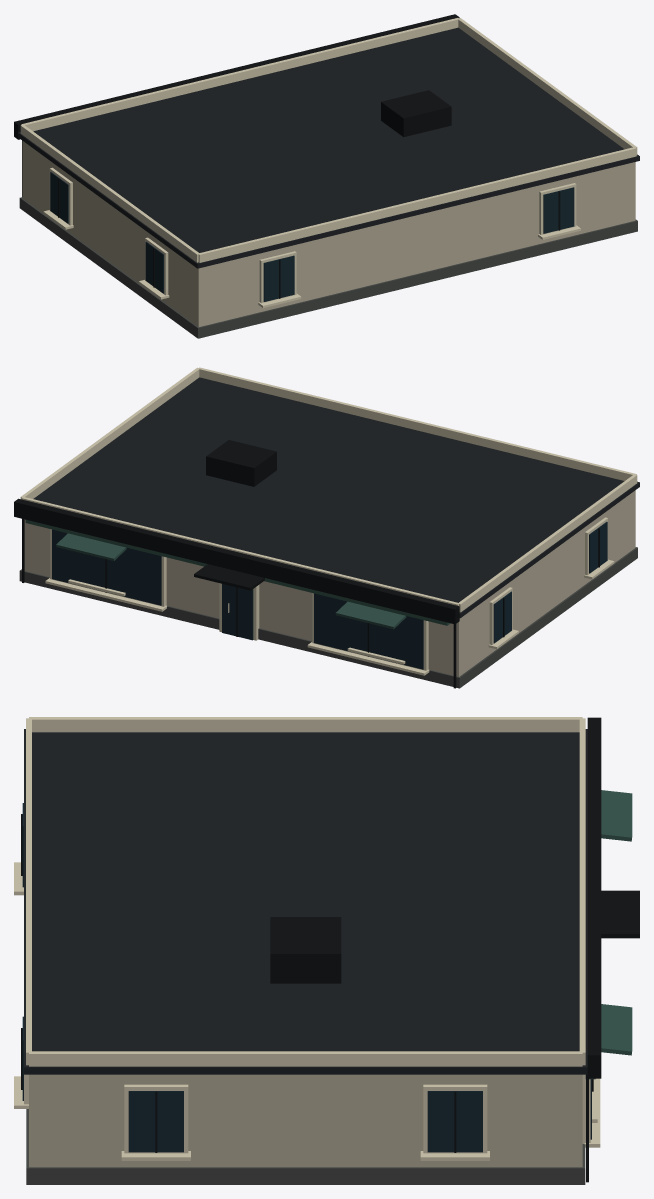
File: 13_Dealership.obj
The picture shows the model from 3 angles, top to bottom: view 1: azimuth 30°, elevation 25°; view 2: azimuth 150°, elevation 25°; view 3: azimuth 270°, elevation 25°; orthographic projection. The views are drawn at different scales.
Visible parts, largest first — view 1: Roof, Plaster, Trim, Base, Metal, Glass; view 2: Roof, Plaster, Trim, Metal, Glass, Base, Awning; view 3: Roof, Plaster, Trim, Metal, Base, Glass, Awning.
Part boxes in pixels (x1=…): Roof: x1=18, y1=27, x2=639, y2=268; Plaster: x1=22, y1=141, x2=635, y2=326; Trim: x1=20, y1=18, x2=637, y2=308; Base: x1=19, y1=197, x2=637, y2=338; Metal: x1=14, y1=14, x2=560, y2=298; Glass: x1=50, y1=172, x2=574, y2=301; Roof: x1=33, y1=377, x2=639, y2=618; Plaster: x1=24, y1=490, x2=635, y2=676; Trim: x1=20, y1=367, x2=637, y2=675; Metal: x1=14, y1=440, x2=599, y2=688; Glass: x1=52, y1=522, x2=607, y2=669; Base: x1=19, y1=547, x2=637, y2=688; Awning: x1=25, y1=519, x2=450, y2=629; Roof: x1=24, y1=729, x2=587, y2=1074; Plaster: x1=29, y1=1074, x2=582, y2=1167; Trim: x1=14, y1=717, x2=600, y2=1160; Metal: x1=21, y1=717, x2=639, y2=1182; Base: x1=26, y1=1109, x2=585, y2=1184; Glass: x1=22, y1=803, x2=591, y2=1152; Awning: x1=585, y1=790, x2=632, y2=1079.
Bounding box in the file's own units: 20.76 × 4.12 × 15.83.
